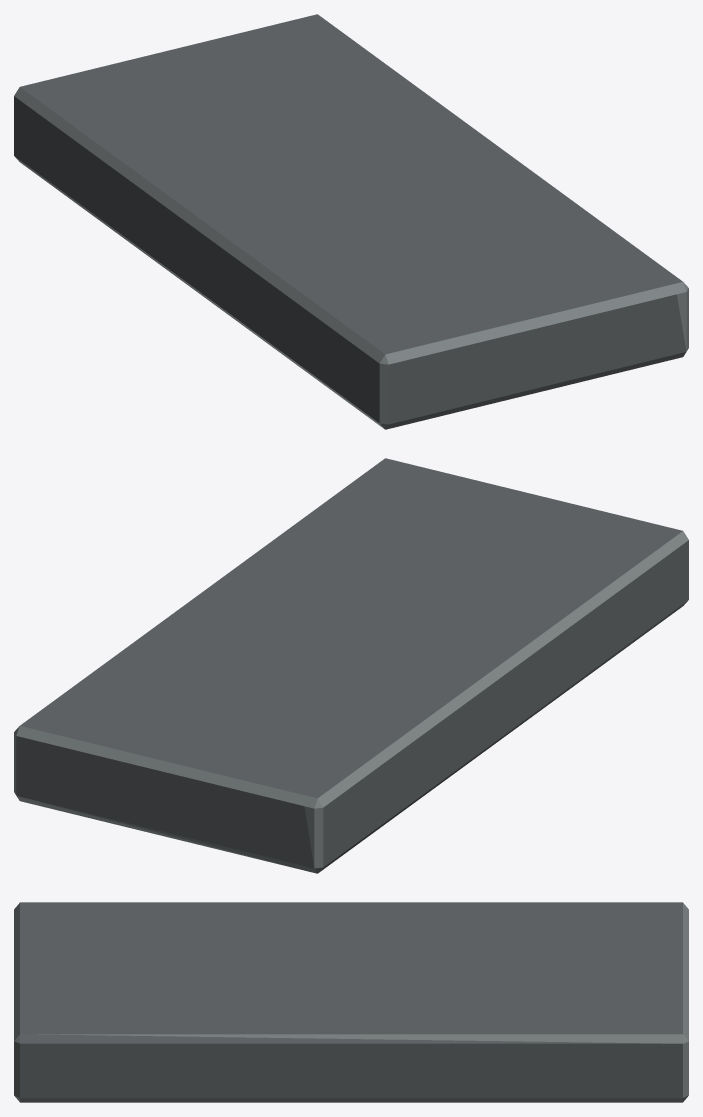
The model's file is MCastle_HardStone_Floor_02.FBX.
3 renders of one model, top to bottom at view 1: azimuth 30°, elevation 25°; view 2: azimuth 150°, elevation 25°; view 3: azimuth 270°, elevation 25°, orthographic. The views are drawn at different scales.
Visible parts, largest first — view 1: MCastle_HardStone_Floor_02_LOD0; view 2: MCastle_HardStone_Floor_02_LOD0; view 3: MCastle_HardStone_Floor_02_LOD0.
Part boxes in pixels (x1,y1,x2,y2): MCastle_HardStone_Floor_02_LOD0: [14, 14, 688, 429]; MCastle_HardStone_Floor_02_LOD0: [14, 458, 688, 873]; MCastle_HardStone_Floor_02_LOD0: [14, 902, 688, 1102].
Size of what is drawn, in the model's own units: 2.15 by 0.5004 by 4.48.
